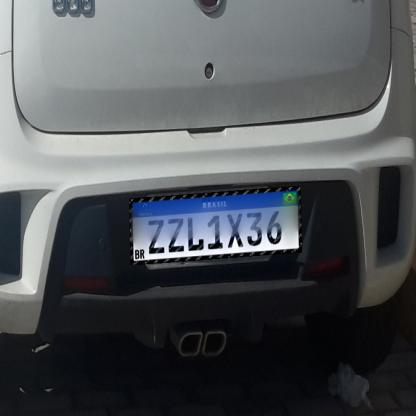PlacaM: (129, 186, 302, 265)
